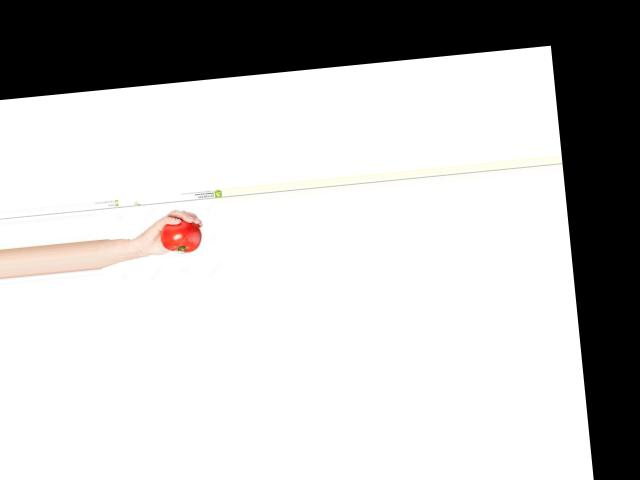tomato: (157, 217, 202, 255)
